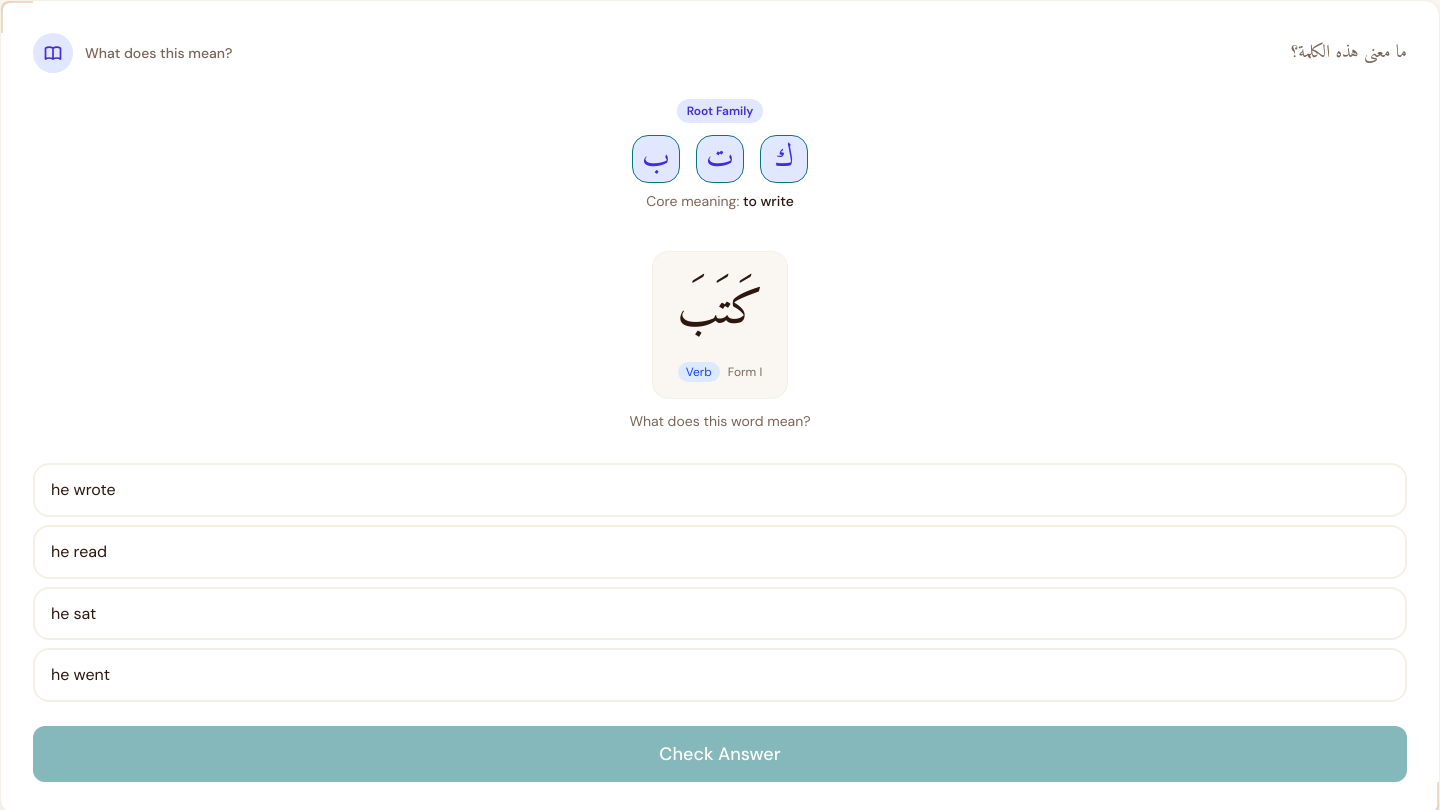
Test case: RootFamilyExercise - Match Meanings › shows feedback after submission
// Select and submit
Click the button "he wrote" at (83, 490), box [33,463,1407,517]
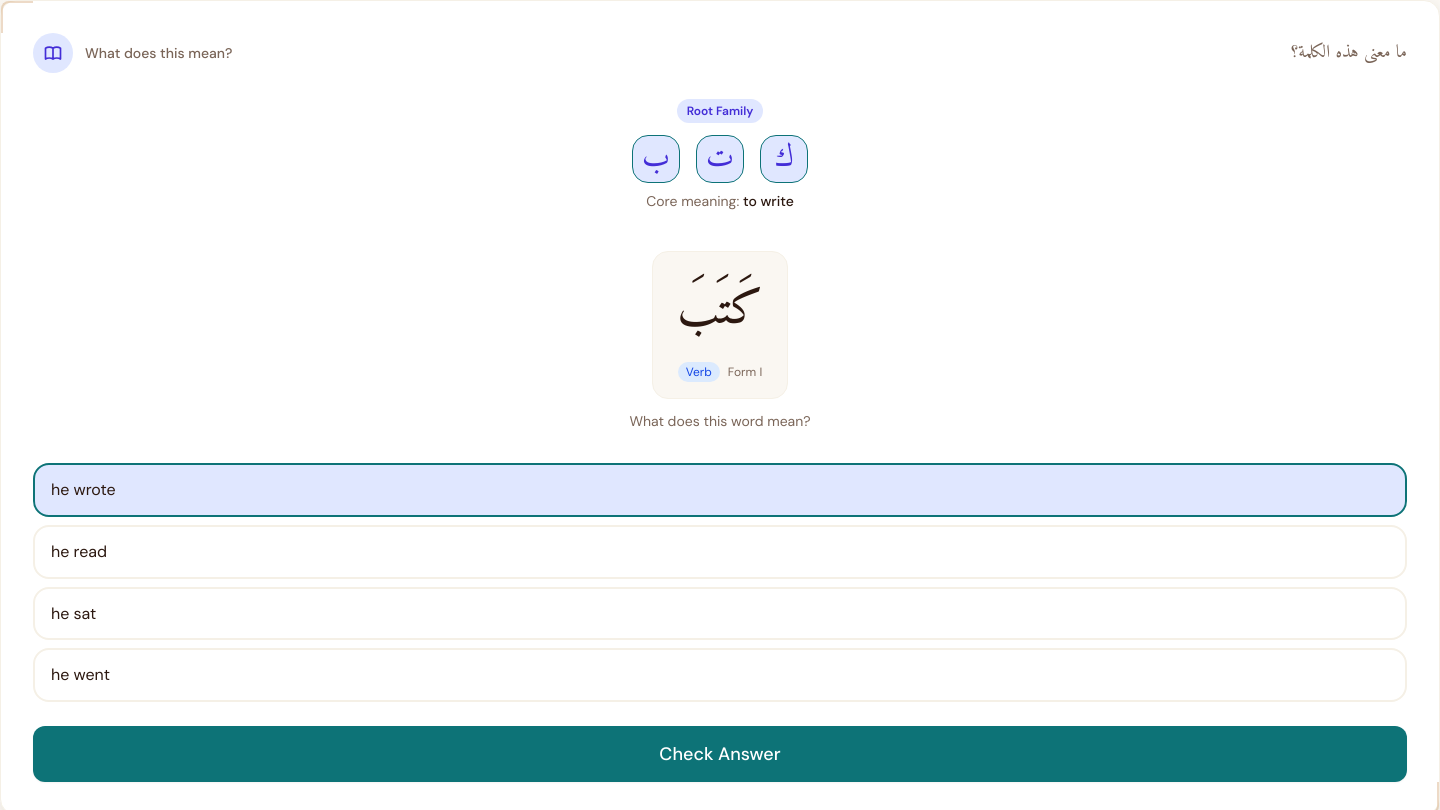
Click the button "Check Answer" at (720, 754), box [33,726,1407,782]
(page scrolled)
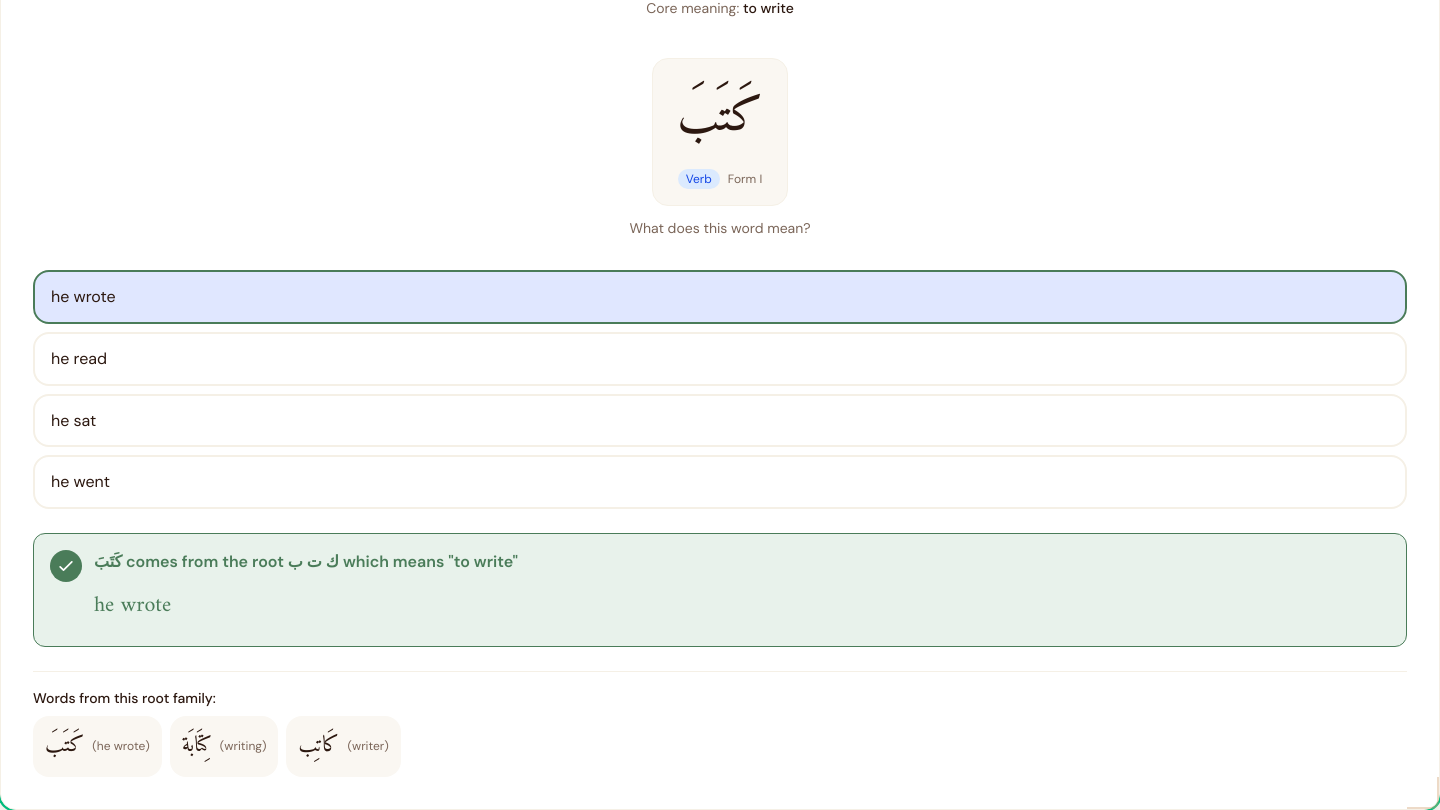
Check: the text "Words from this root family:" is shown, box [33,689,216,707]
